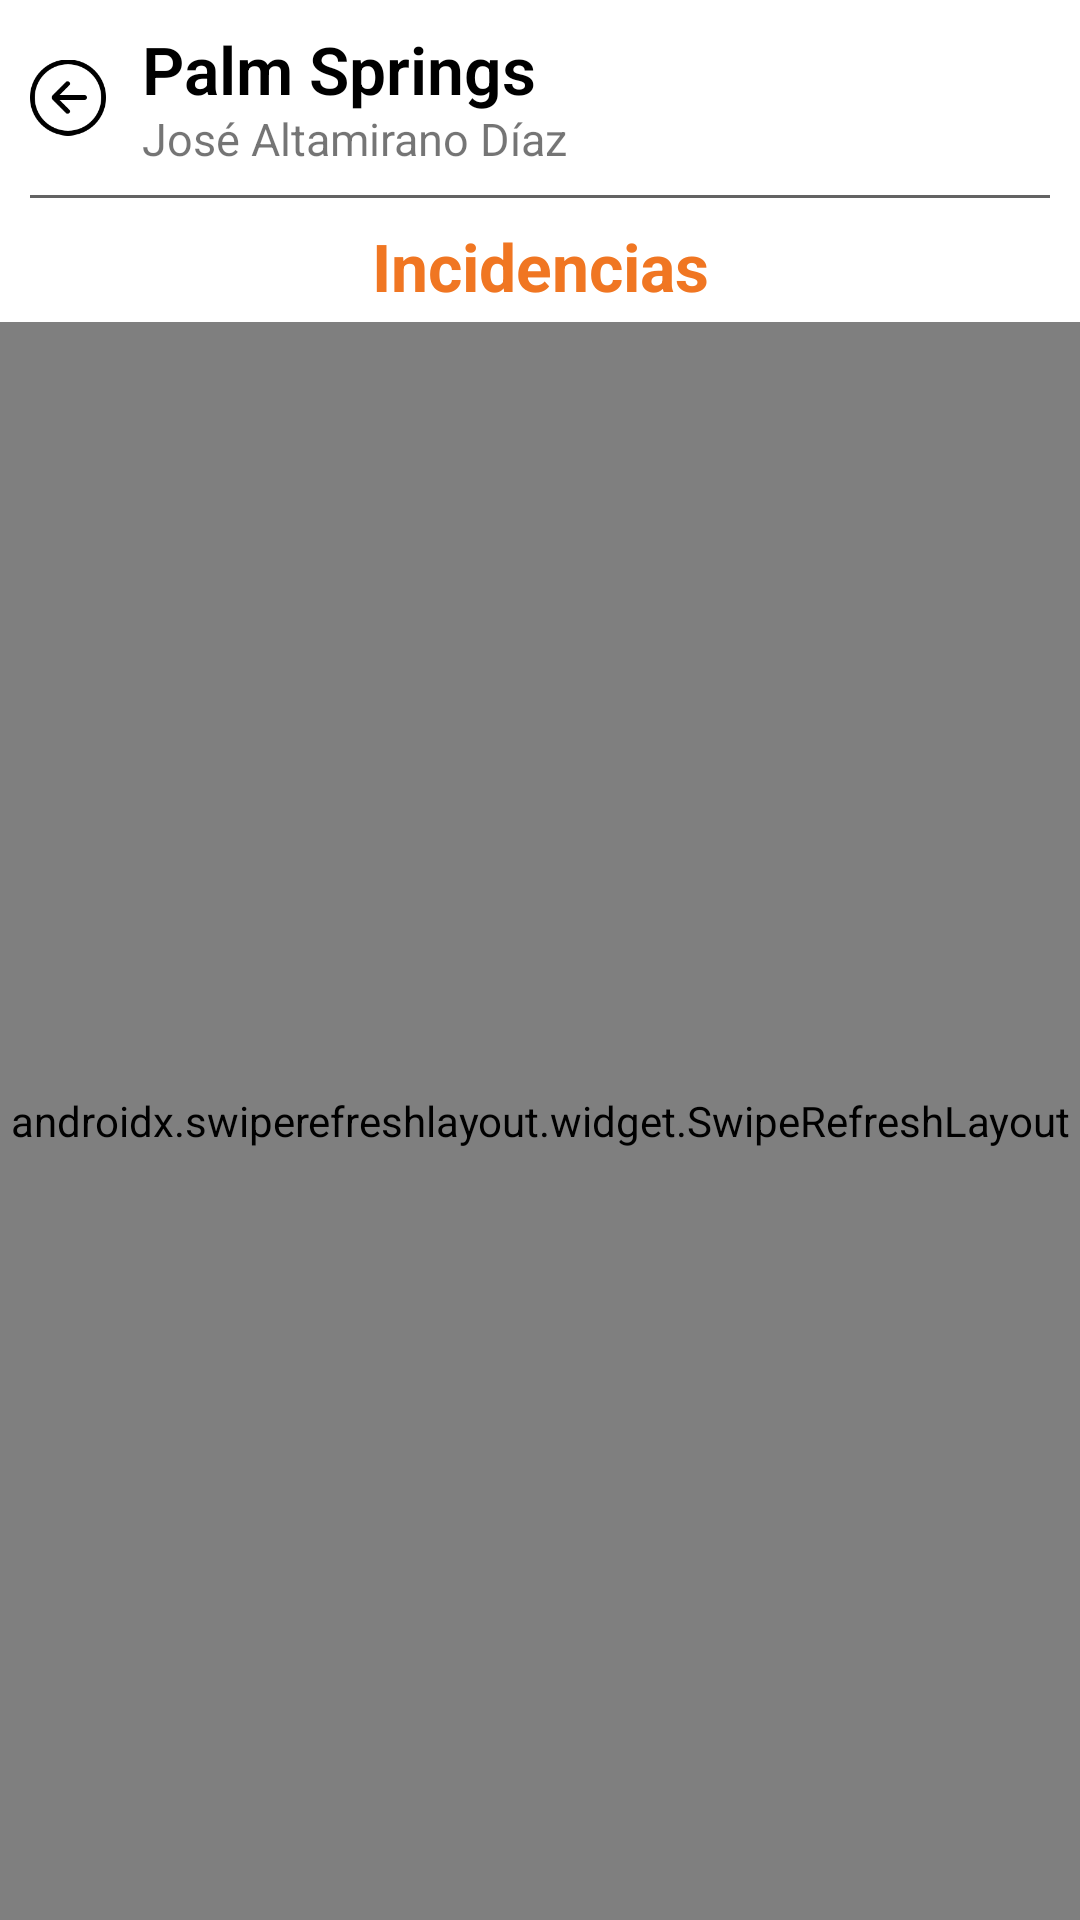

Named icons in this screenshot (1080w x 1920h) and their centers, (x=x, y=y):
back arrow: (x=68, y=98)
